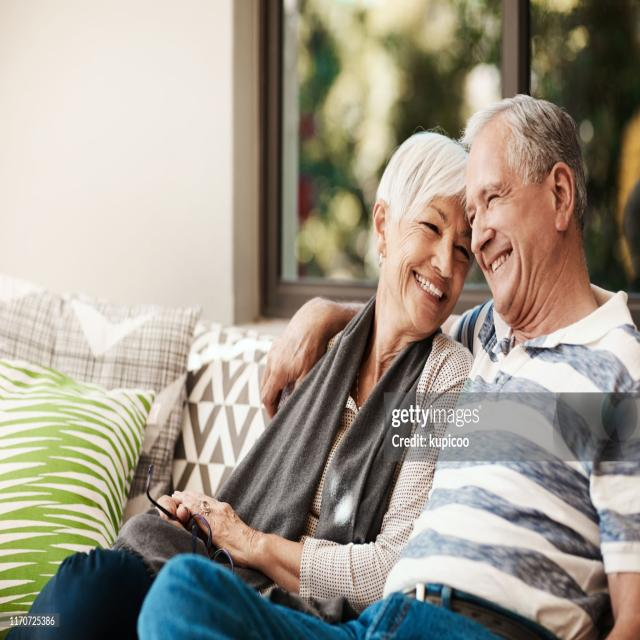idoso sentado: (197, 99, 468, 640), (423, 89, 636, 640)
